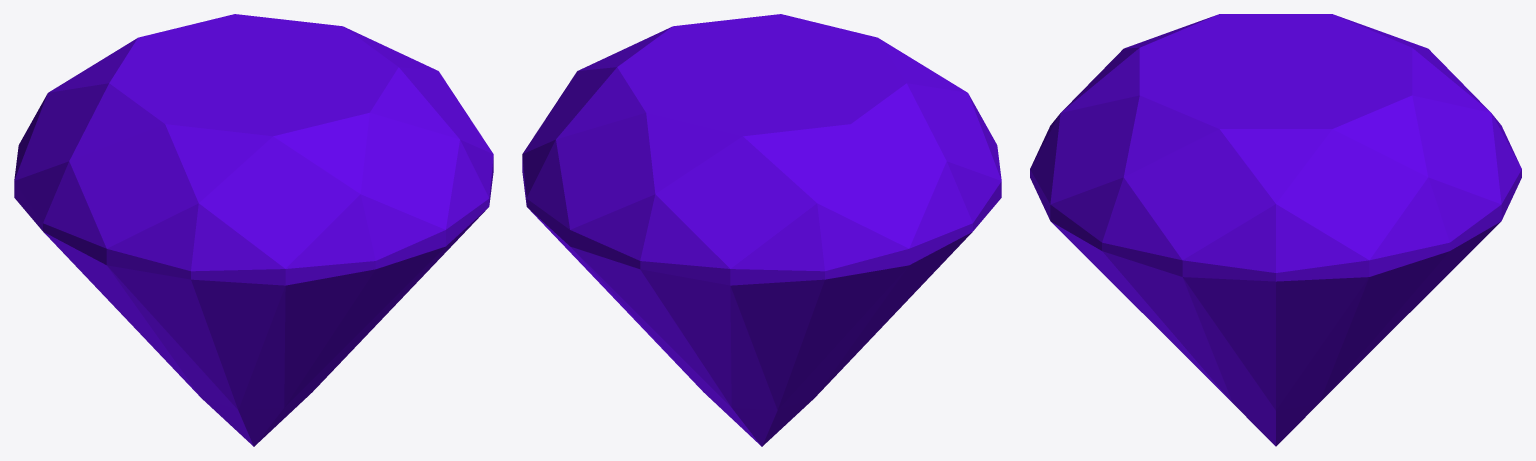
The model's file is BlueDiamond.gltf.
3 views of the same model, side by side, from view 1: azimuth 30°, elevation 25°; view 2: azimuth 150°, elevation 25°; view 3: azimuth 270°, elevation 25° (orthographic).
Parts seen in each view (by area): view 1: Diamond2; view 2: Diamond2; view 3: Diamond2.
Boxes of the visible parts, <box> form: Diamond2: <box>14,14,493,446</box>; Diamond2: <box>522,14,1001,446</box>; Diamond2: <box>1030,14,1521,446</box>.
Size of the model in its own units: 0.3503 by 0.295 by 0.3503.
